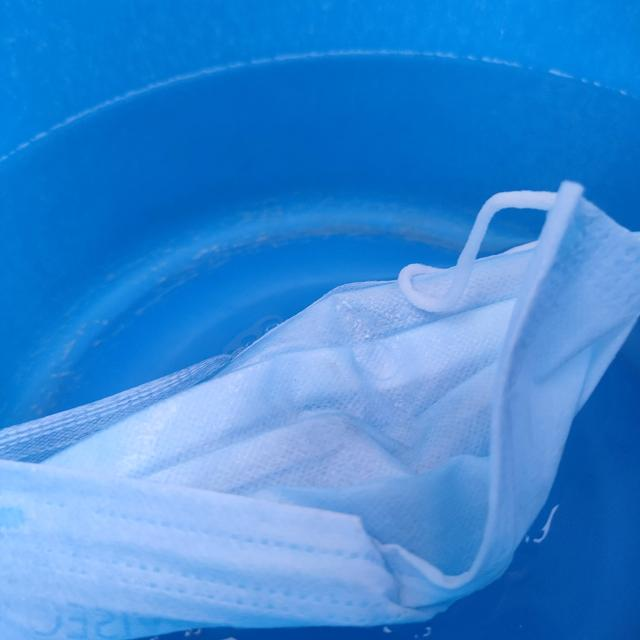mask: (0, 186, 640, 630)
